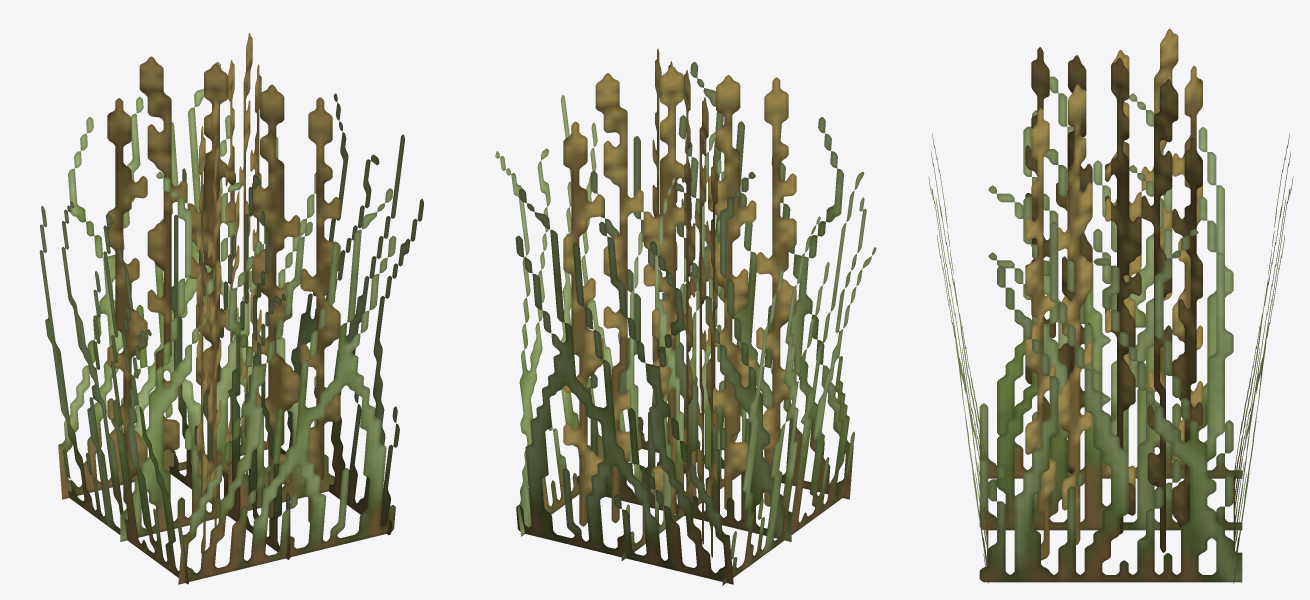
Rendered from paradisian_wheat_grass.obj.
The picture shows the model from 3 angles, left to right: view 1: azimuth 30°, elevation 25°; view 2: azimuth 150°, elevation 25°; view 3: azimuth 270°, elevation 25°; orthographic projection. The views are drawn at different scales.
Visible parts, largest first — view 1: wheat02, grassS, grassW, grassM1, grassN, wheat01, grassE, grassM2; view 2: wheat01, grassN, grassW, grassM1, grassS, wheat02, grassE, grassM2; view 3: grassE, wheat01, wheat02, grassM2, grassW, grassN, grassS.
Part boxes in pixels (bbox=[...]): wheat02: bbox=[107, 56, 340, 522]; grassS: bbox=[178, 188, 396, 584]; grassW: bbox=[39, 201, 188, 584]; grassM1: bbox=[120, 137, 334, 541]; grassN: bbox=[58, 62, 268, 499]; wheat01: bbox=[196, 33, 261, 553]; grassE: bbox=[267, 93, 423, 535]; grassM2: bbox=[169, 168, 290, 559]; wheat01: bbox=[563, 66, 796, 526]; grassN: bbox=[515, 188, 733, 584]; grassW: bbox=[722, 171, 876, 585]; grassM1: bbox=[577, 136, 791, 541]; grassS: bbox=[638, 62, 853, 499]; wheat02: bbox=[652, 48, 717, 557]; grassE: bbox=[495, 95, 644, 536]; grassM2: bbox=[621, 132, 746, 560]; grassE: bbox=[979, 221, 1242, 582]; wheat01: bbox=[1025, 47, 1202, 552]; wheat02: bbox=[1025, 28, 1202, 560]; grassM2: bbox=[979, 149, 1242, 530]; grassW: bbox=[979, 76, 1242, 478]; grassN: bbox=[1233, 134, 1293, 583]; grassS: bbox=[928, 134, 988, 583].
Bounding box in the file's own units: 1.32 × 1.88 × 1.32.
